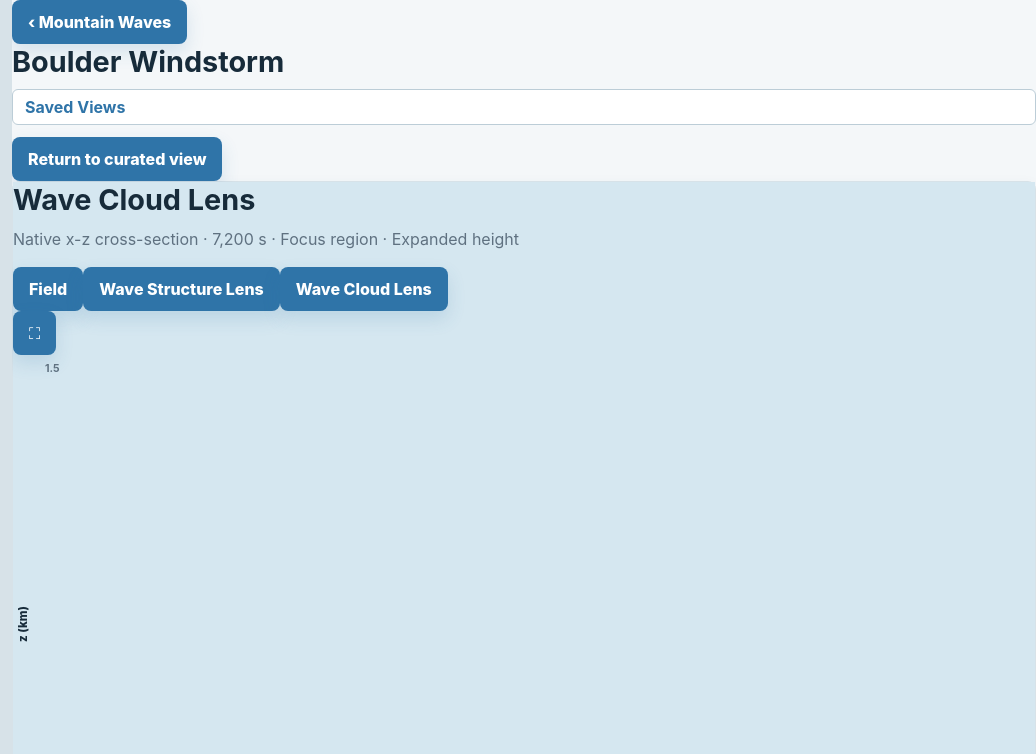
Test: MountainWavesExplore › switches to direct Field inspection and preserves the geometry choice
The width and height of the screenshot is (1036, 754).
Expected: the heading "Wave Cloud Lens" is shown, [13,182,255,217]
Click the button "Field": (48, 289) [13,267,83,311]
(page scrolled)
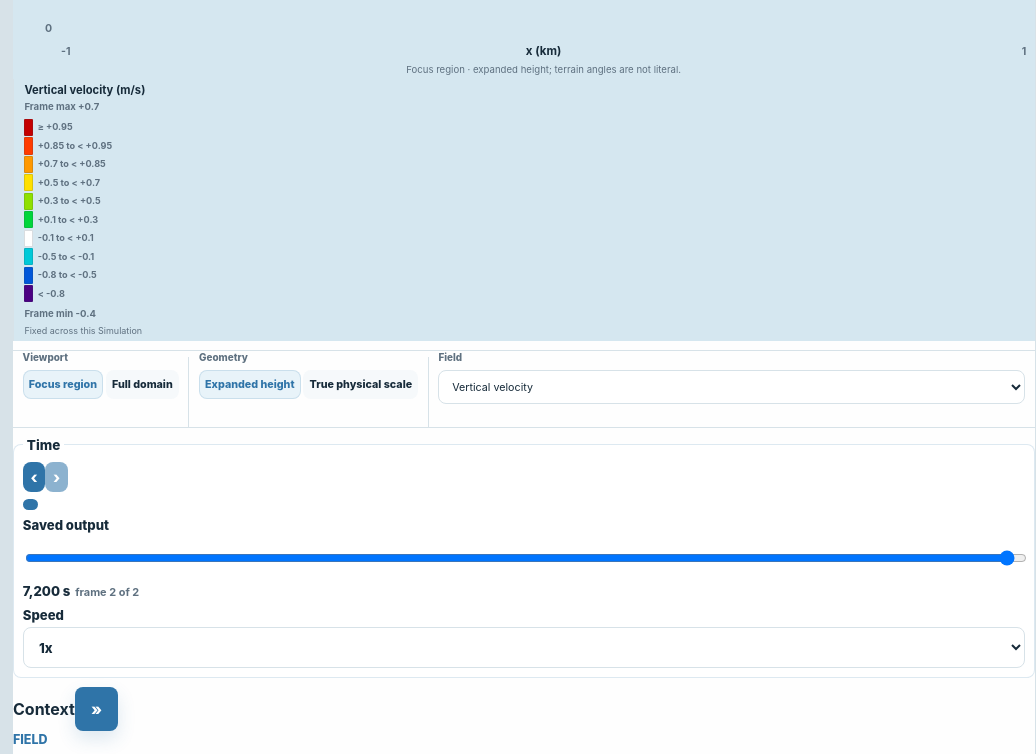
Click the button "True physical scale": (361, 385) [304,370,418,400]
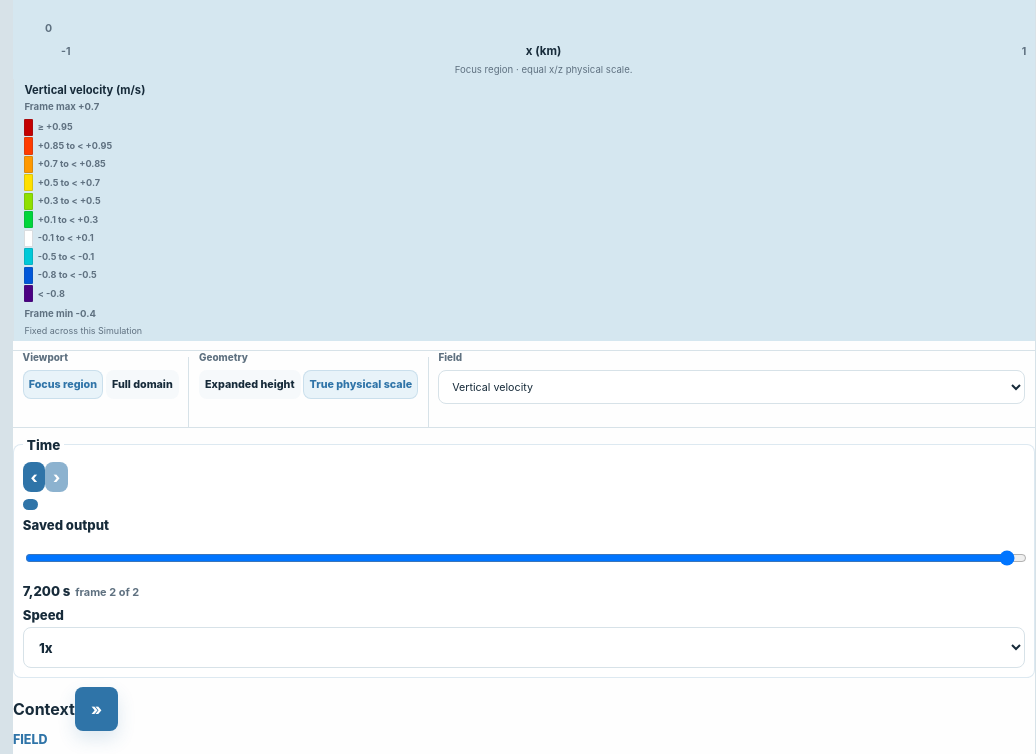
Now the text "Focus region · equal x/z physical scale." is shown, box [455,64,632,75]
Click the button "Full domain": (142, 385) [106,370,179,400]
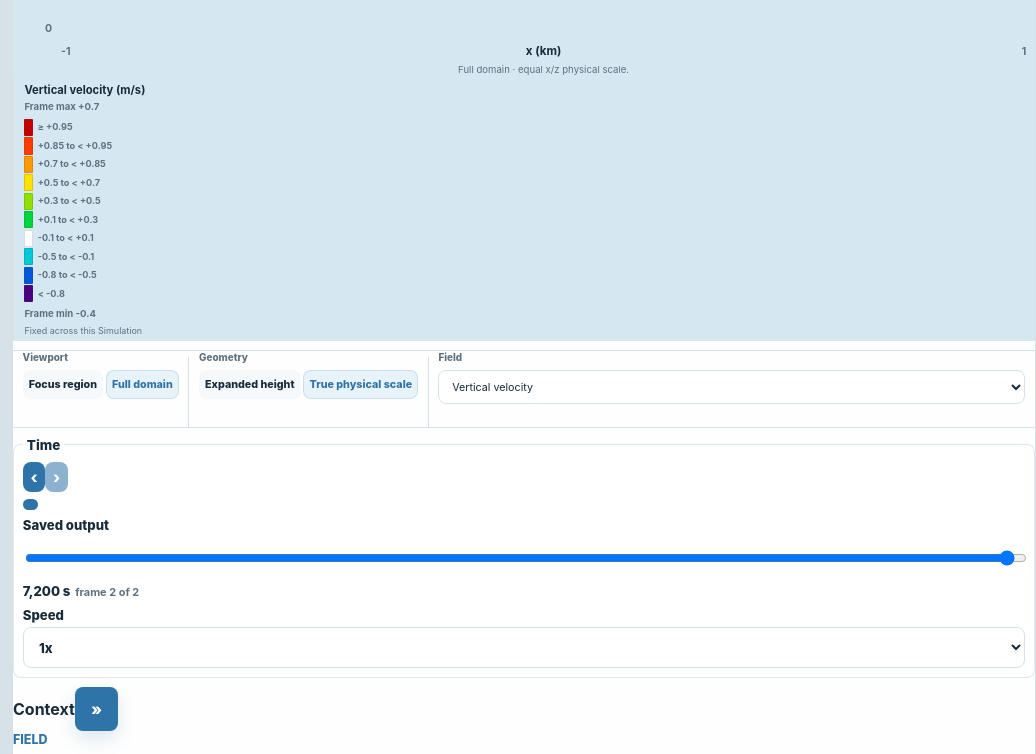
Now the text "Full domain · equal x/z physical scale." is shown, box [458,64,629,75]
